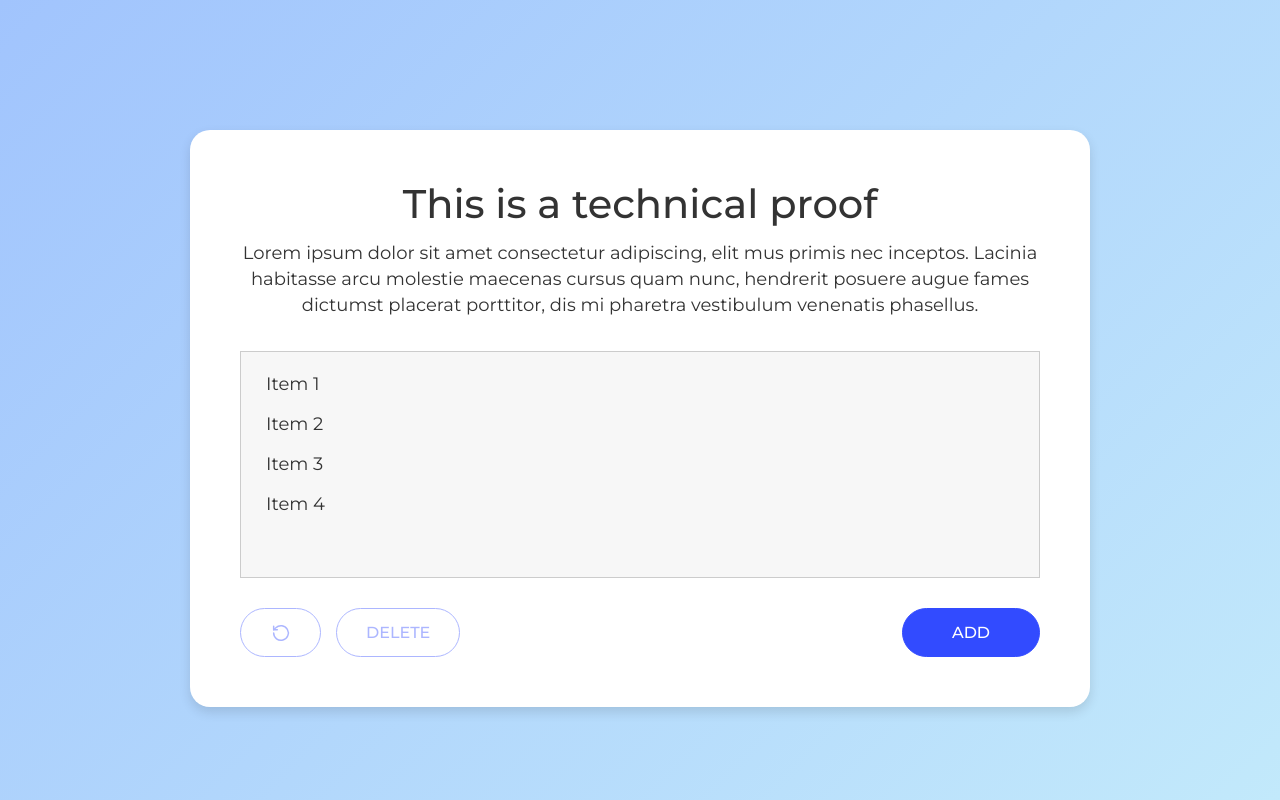
Test case: App › undoes the last changes
This screenshot has width=1280, height=800.
Step 1. Double-click the button "Item 1" → (293,384), box [251, 364, 1029, 404]
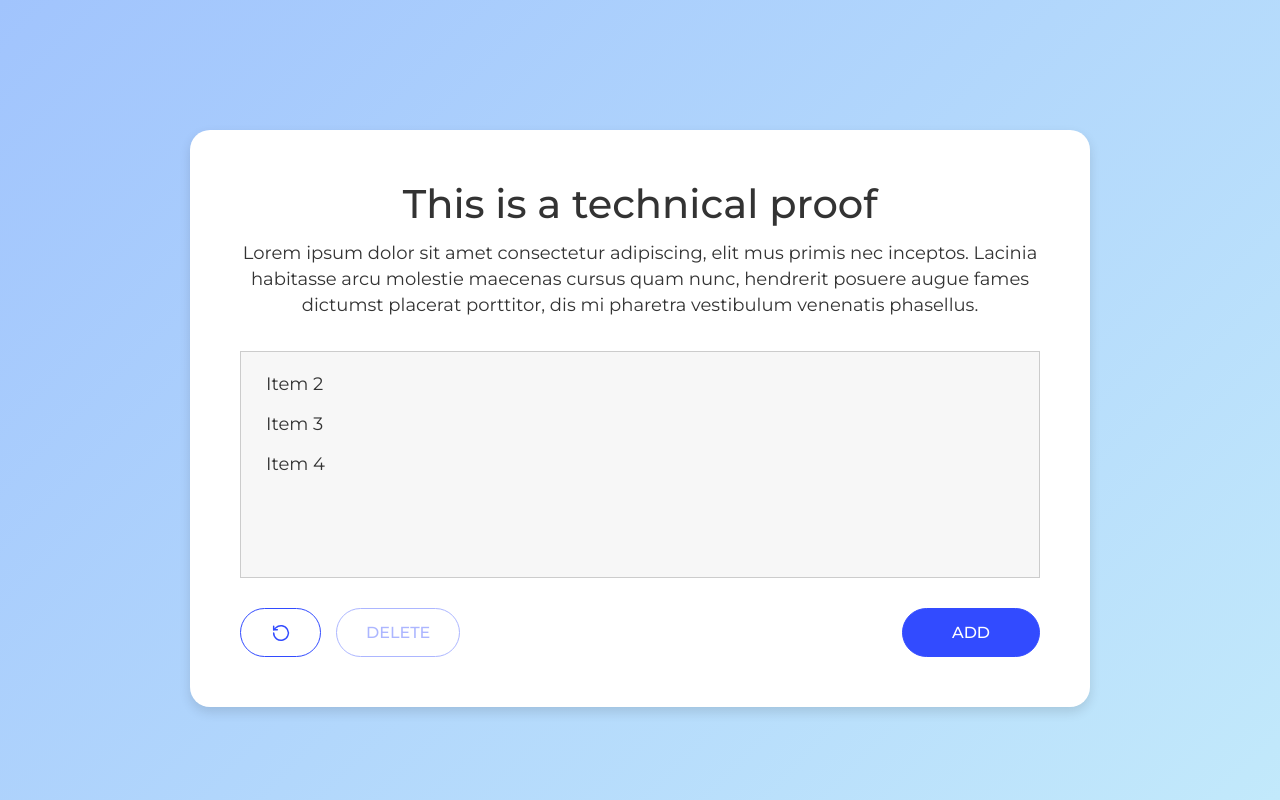
Step 2. Double-click the button "Item 2" → (295,384), box [251, 364, 1029, 404]
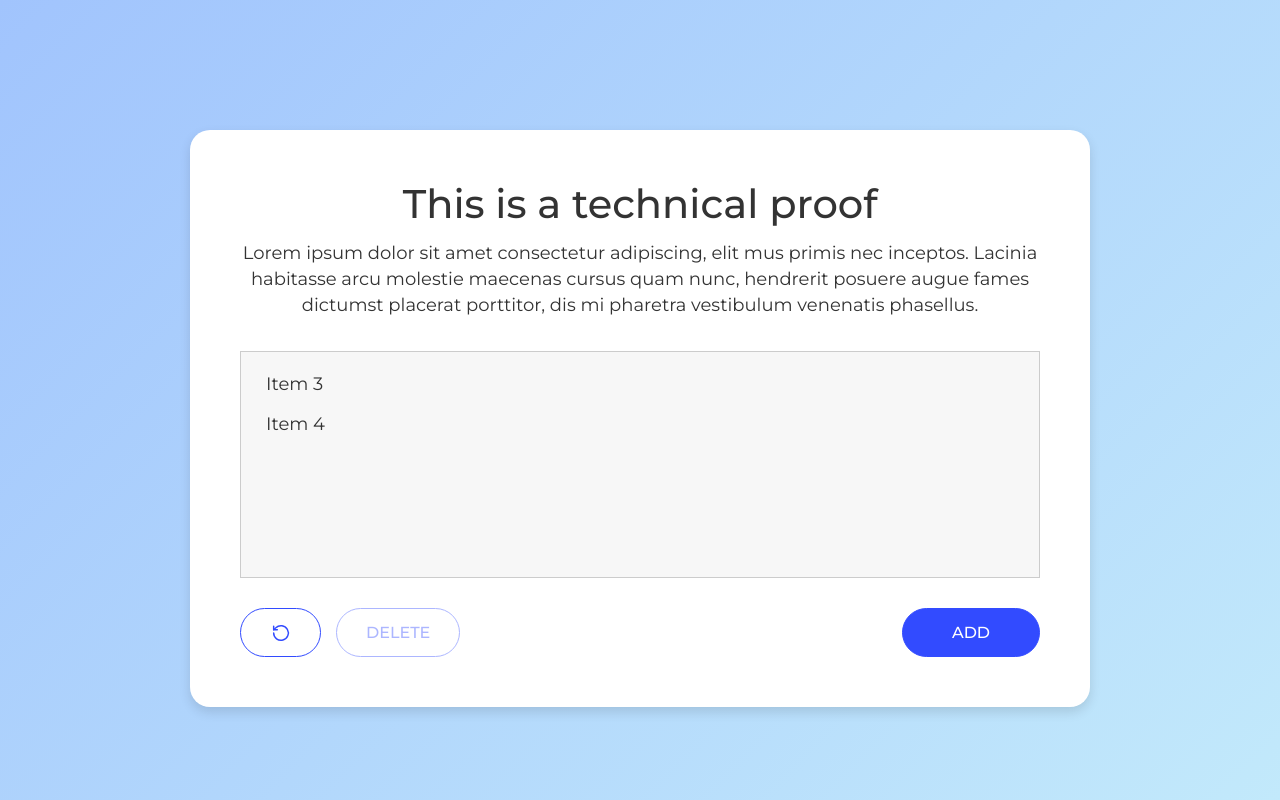
Step 3. Click the button named "Undo" → (280,633), box [240, 608, 321, 657]
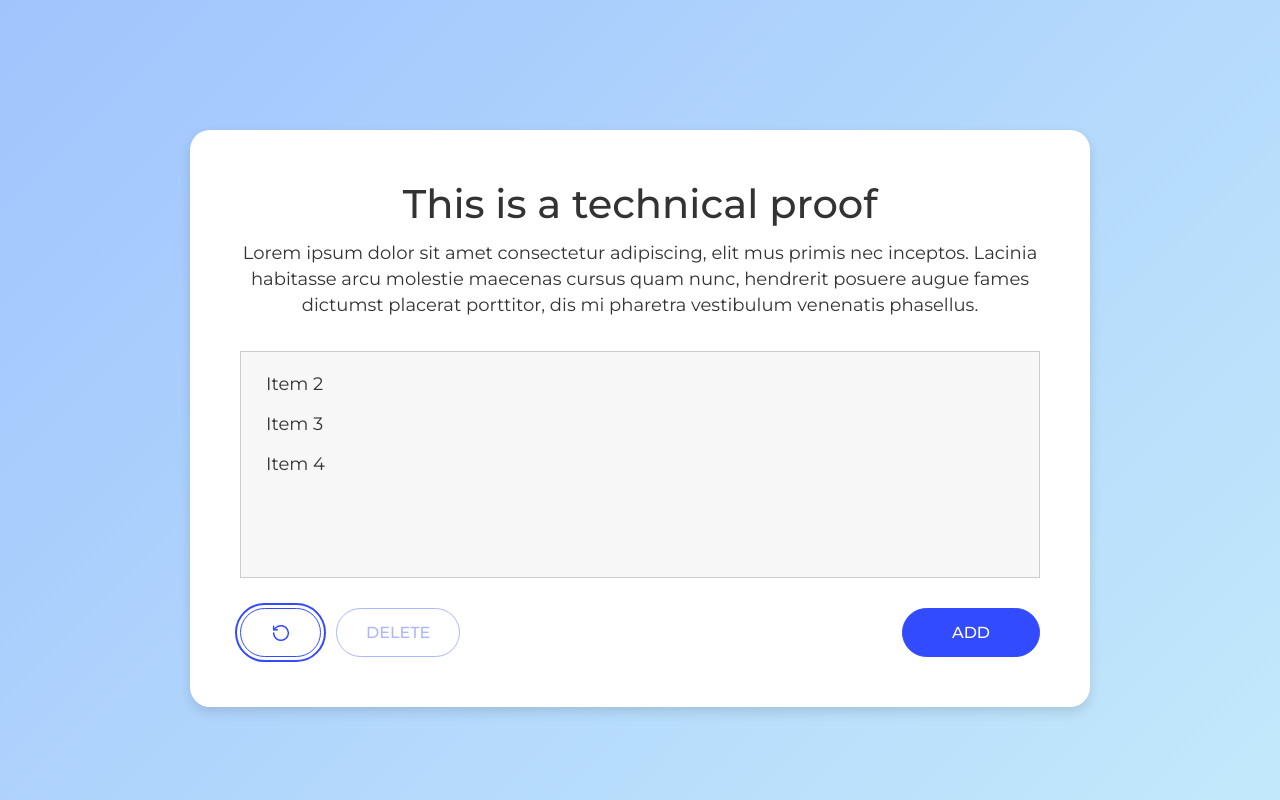
Step 4. Click the button named "Undo" → (280,633), box [240, 608, 321, 657]
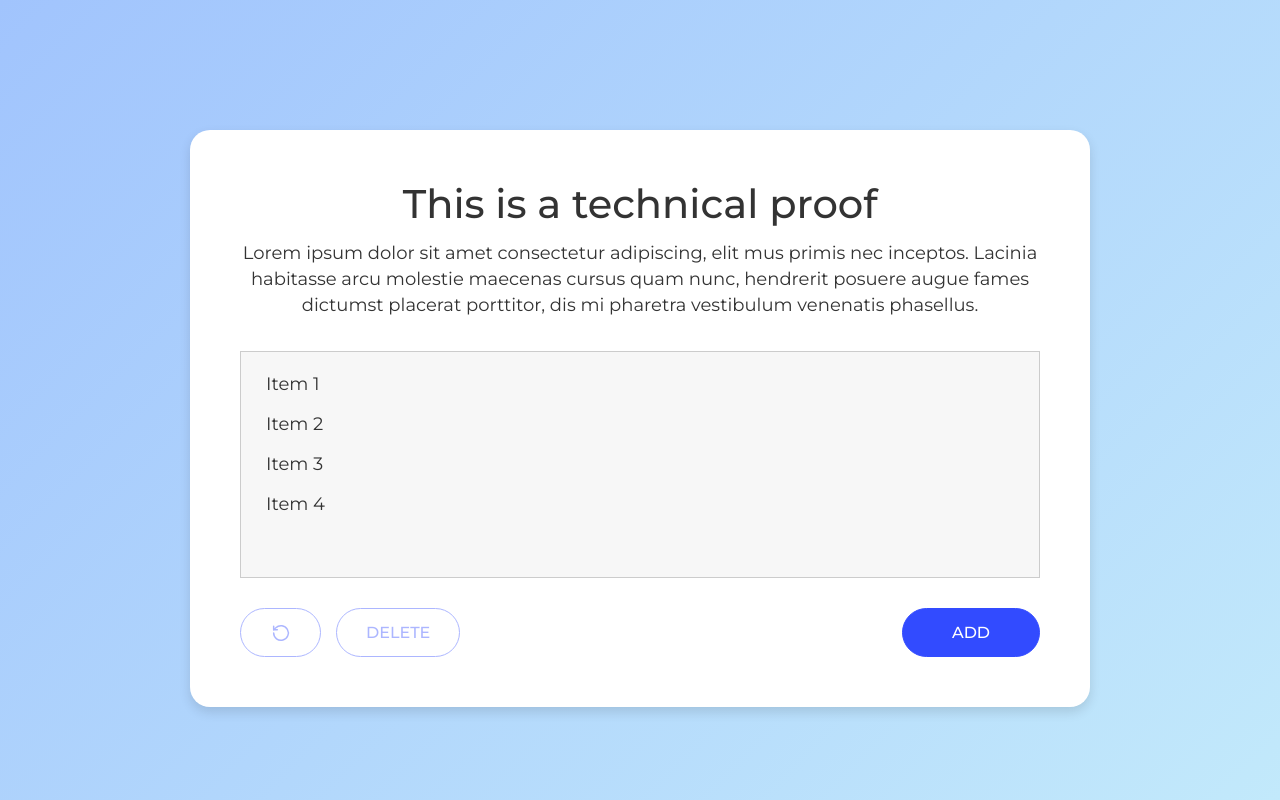
Expected: the button named "Undo" is disabled, [240, 608, 321, 657]
